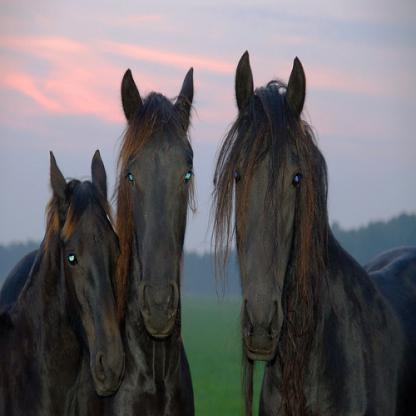horse: (216, 47, 415, 414), (66, 67, 199, 415), (0, 149, 126, 414)
